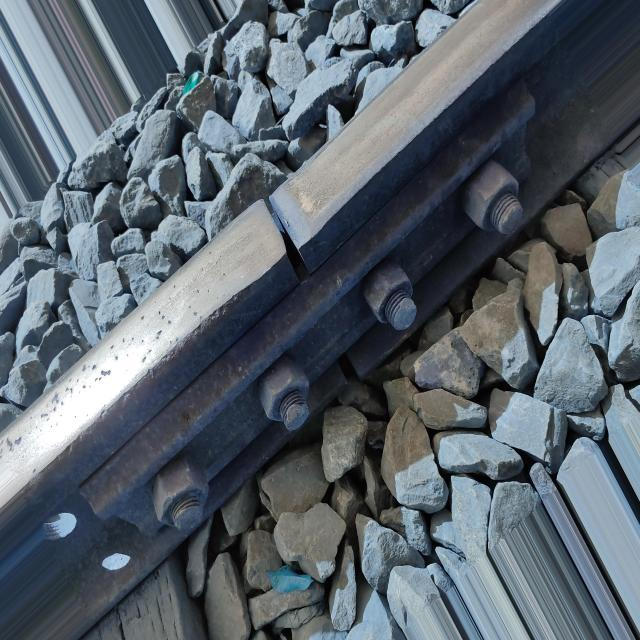Good Joint: (82, 77, 534, 543)
